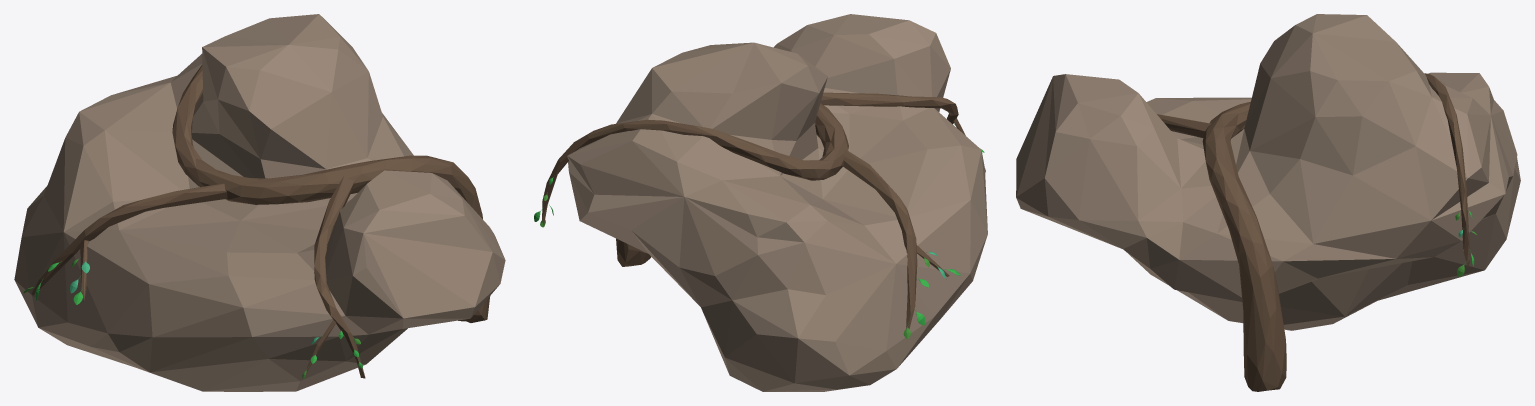
The model's file is rock16.fbx.
3 views of the same model, side by side, from view 1: azimuth 30°, elevation 25°; view 2: azimuth 150°, elevation 25°; view 3: azimuth 270°, elevation 25° (orthographic). The views are drawn at different scales.
Parts seen in each view (by area): view 1: Rock16, Wood, Leaf; view 2: Rock16, Wood, Leaf; view 3: Rock16, Wood.
Part boxes in pixels (box(x1,y1,x2,y2)): Rock16: box(14, 14, 505, 391); Wood: box(32, 65, 490, 378); Leaf: box(23, 257, 362, 379); Rock16: box(567, 14, 987, 391); Wood: box(542, 92, 965, 328); Leaf: box(534, 124, 985, 339); Rock16: box(1016, 14, 1520, 330); Wood: box(1157, 73, 1469, 391).
Bounding box in the file's own units: 2.32 × 1.74 × 2.7.
